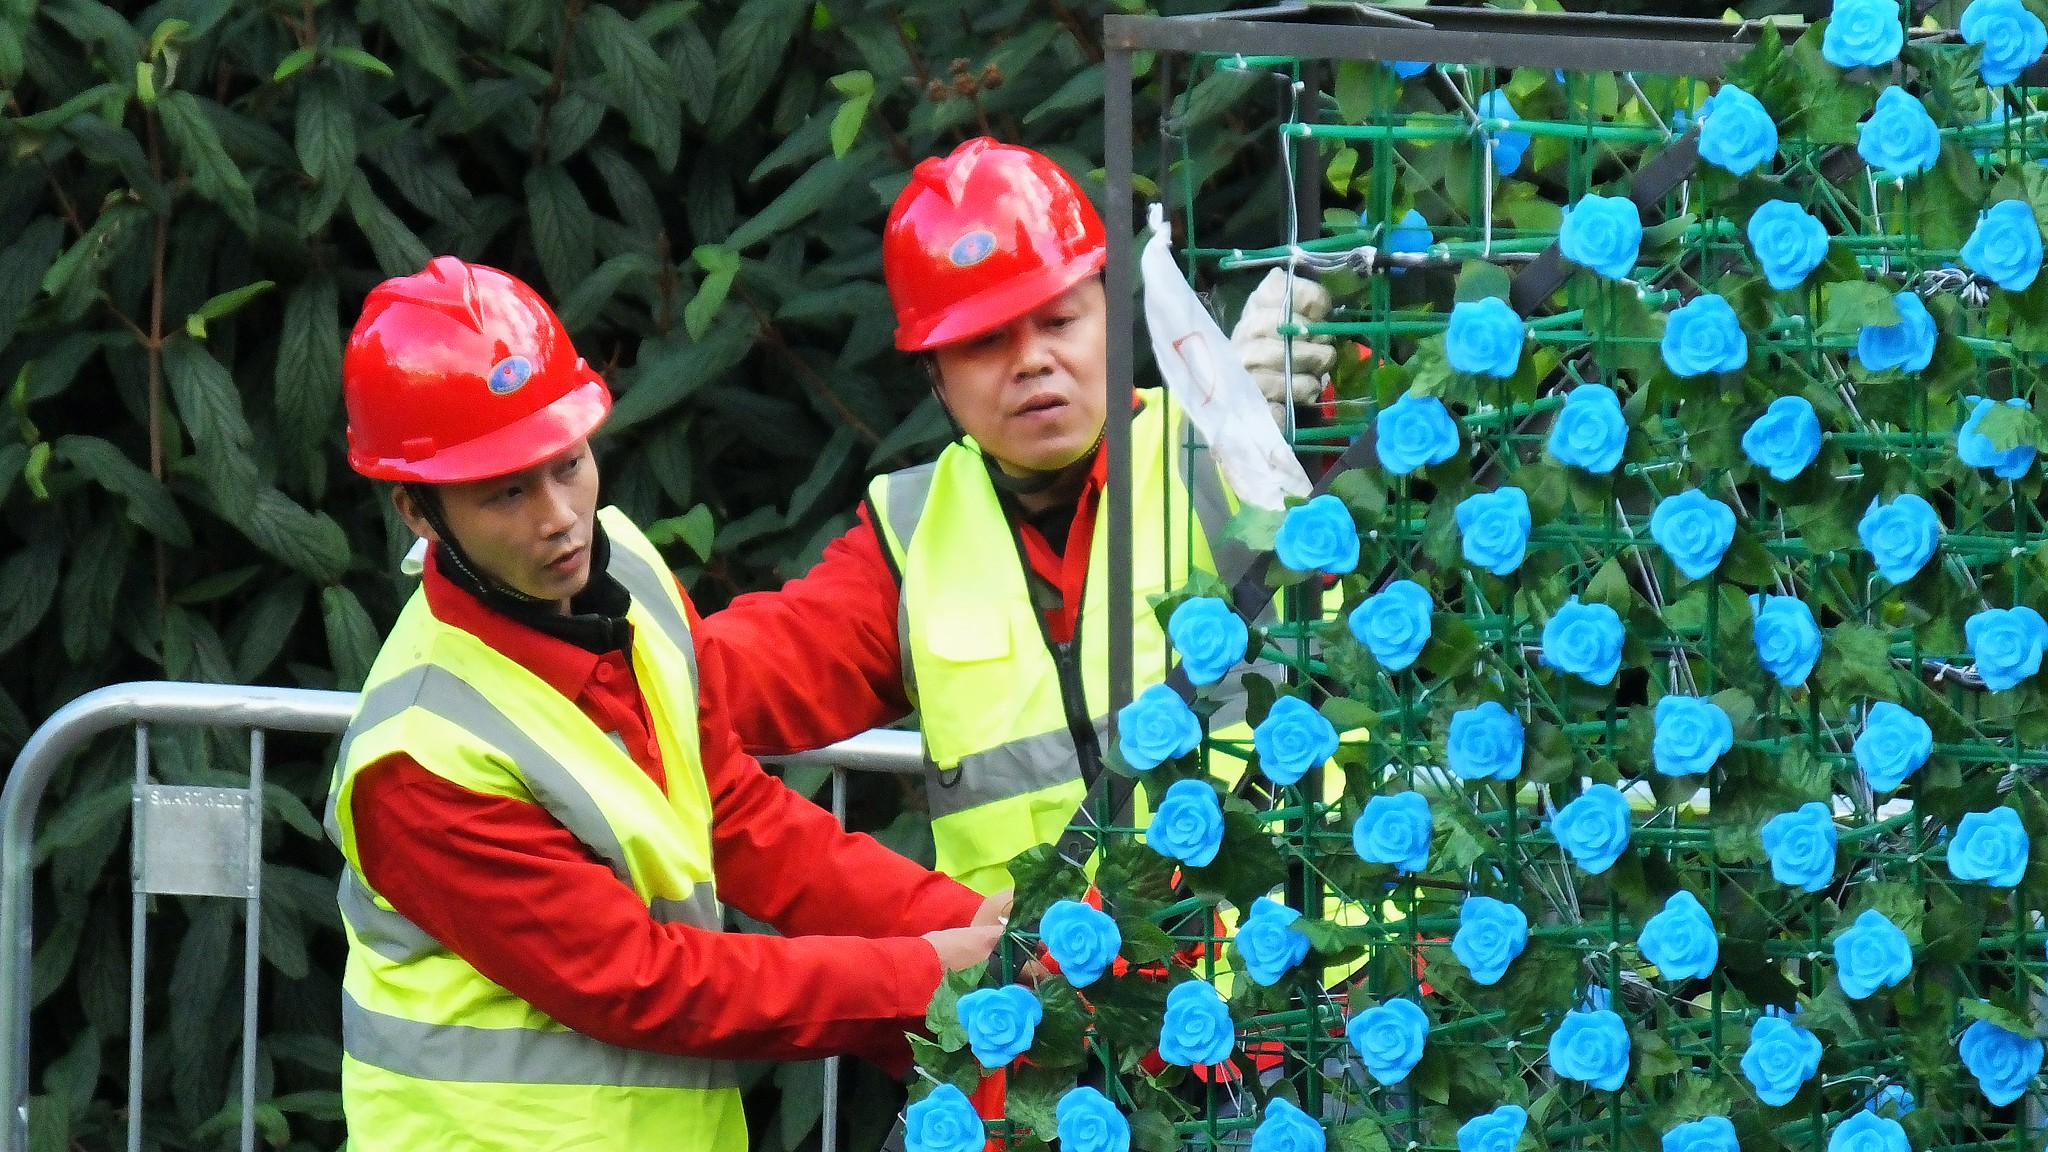Helmet: (332, 218, 663, 639), (850, 114, 1145, 480)
Reflective vest: (852, 385, 1407, 985), (314, 504, 761, 1152)
